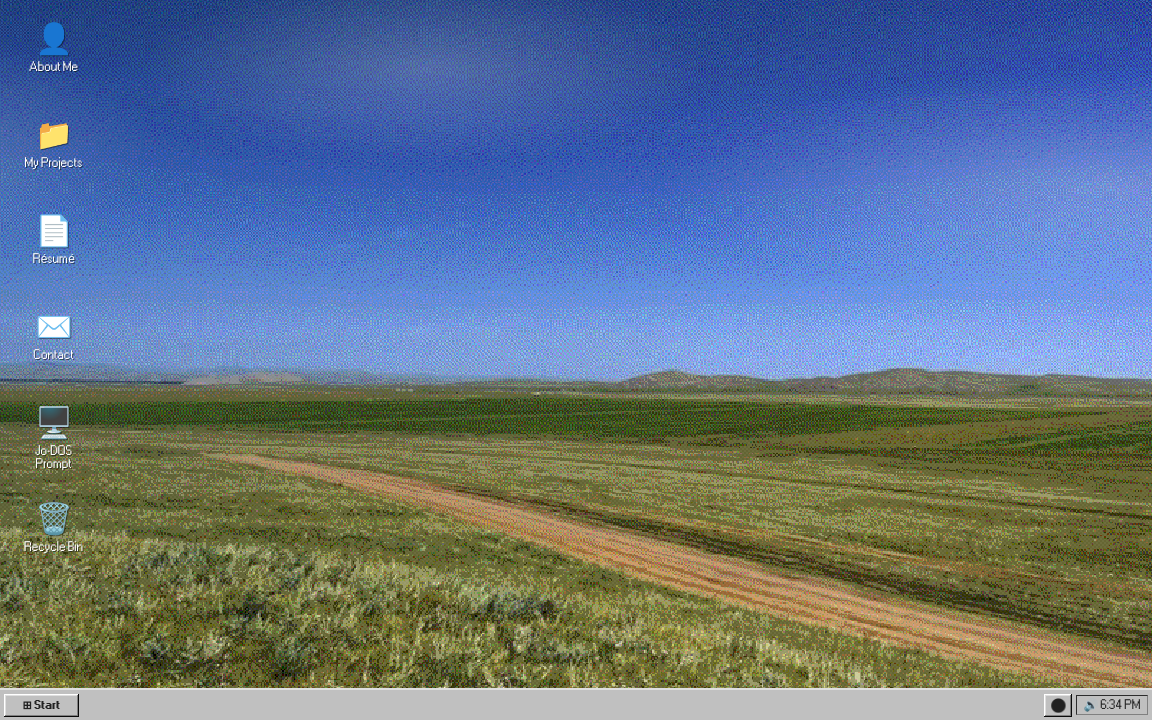
Test case: Taskbar › sound toggle › toggles and persists the preference
Click the button named "Turn sound on" at coordinates (1058, 705), box [1044, 694, 1072, 716]
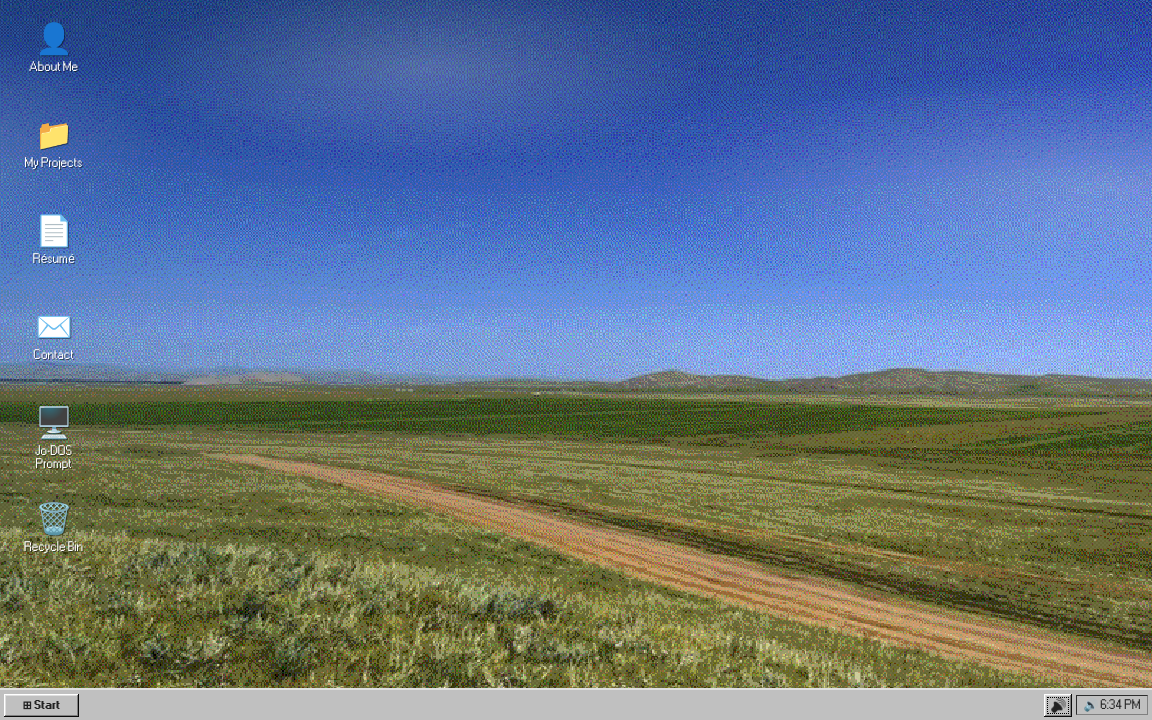
Now the button named "Turn sound off" is pressed
Click the button named "Turn sound off" at coordinates (1058, 705), box [1044, 694, 1072, 716]
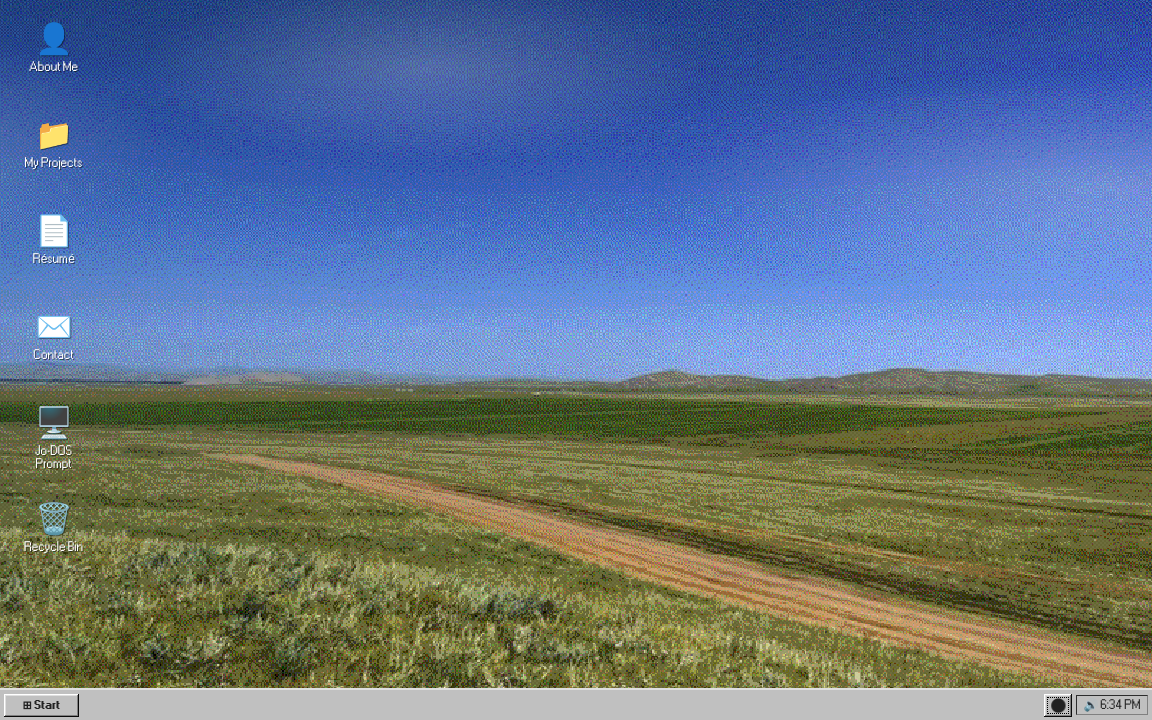
Now the button named "Turn sound on" is shown, box [1044, 694, 1072, 716]
